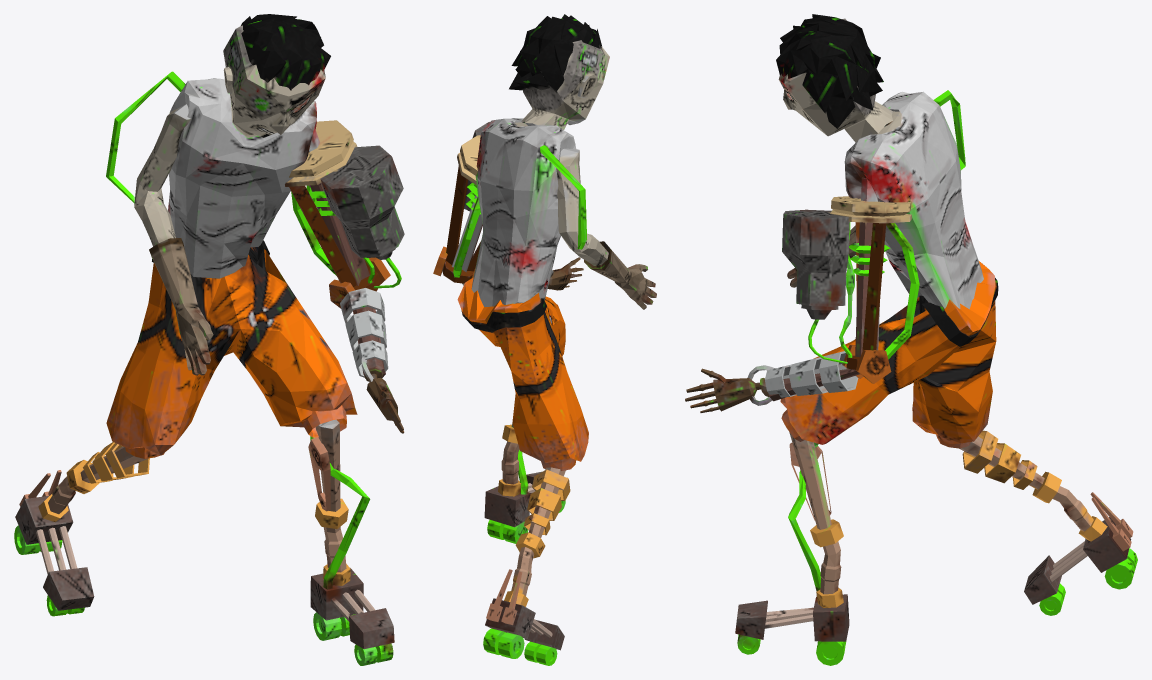
Rendered from CyborgFINALAnimation_000006.obj.
3 views of the same model, side by side, from view 1: azimuth 30°, elevation 25°; view 2: azimuth 150°, elevation 25°; view 3: azimuth 270°, elevation 25° (orthographic). The views are drawn at different scales.
Parts seen in each view (by area): view 1: CyborgMesh_Cube.002; view 2: CyborgMesh_Cube.002; view 3: CyborgMesh_Cube.002.
Boxes of the visible parts, <box> form: CyborgMesh_Cube.002: <box>14,14,404,665</box>; CyborgMesh_Cube.002: <box>433,14,656,665</box>; CyborgMesh_Cube.002: <box>685,14,1137,665</box>.
Bounding box in the file's own units: 3.36 × 8.82 × 5.73.
